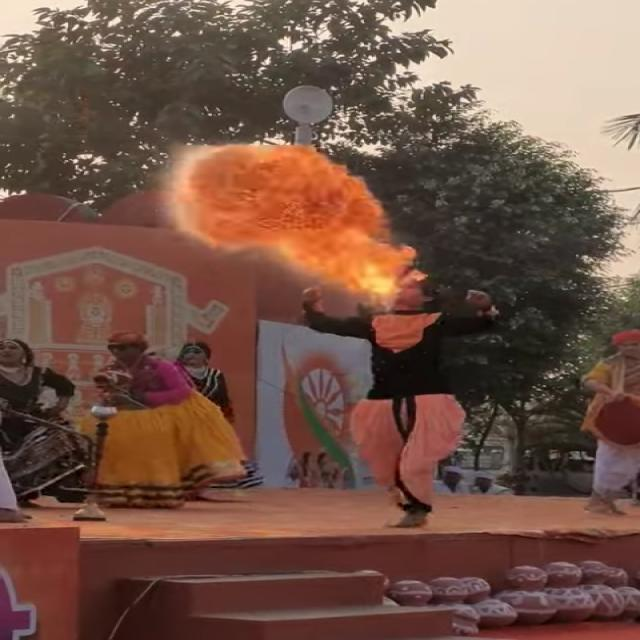fire: (168, 144, 384, 253), (280, 246, 427, 311)
